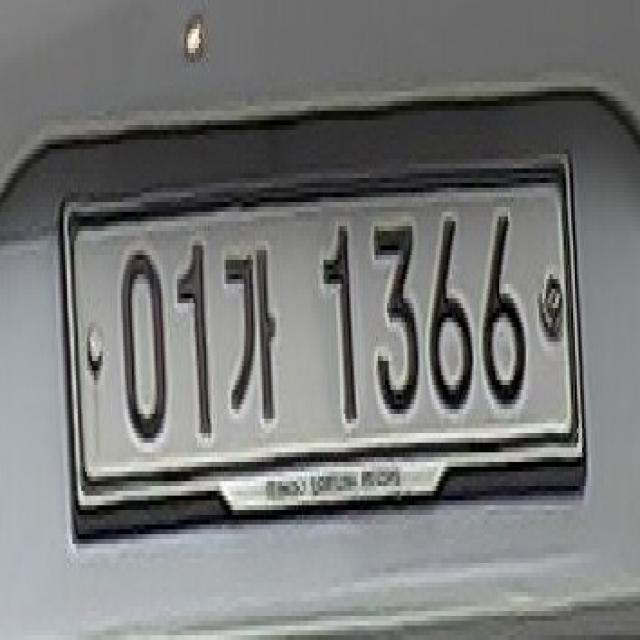0: (114, 234, 170, 451)
1: (173, 232, 217, 452), (321, 211, 358, 428)
3: (370, 206, 423, 433)
6: (426, 198, 479, 432), (481, 212, 529, 430)
ga: (222, 232, 286, 436)
license_plate: (52, 142, 601, 574)
